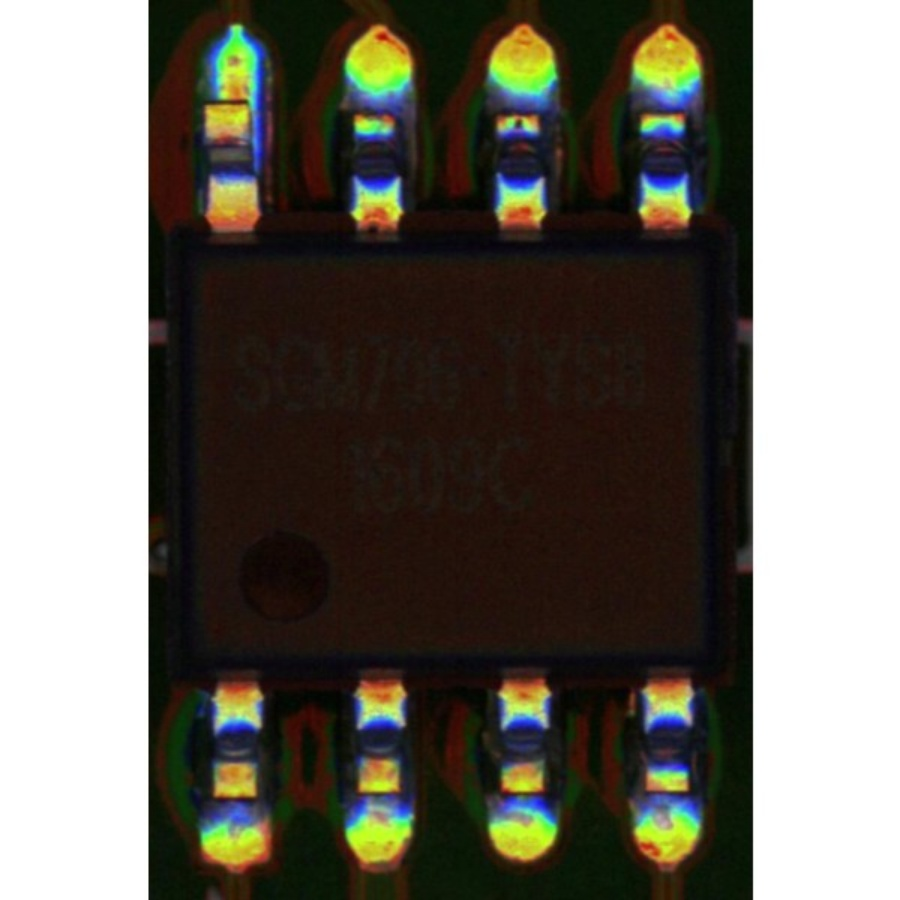Bad_podu: (215, 89, 250, 115)
Bad_qiaojiao: (249, 101, 262, 172)
